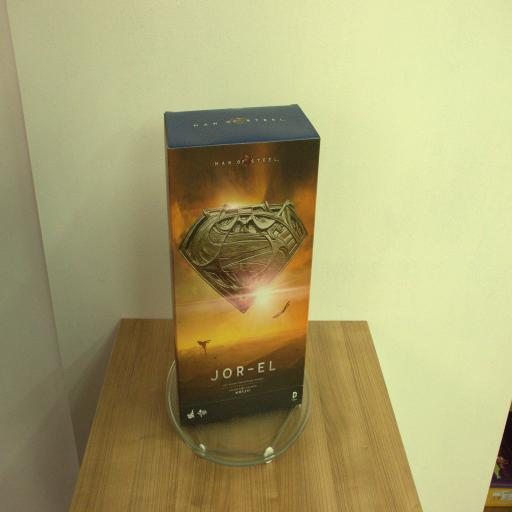superman: (165, 106, 319, 430)
